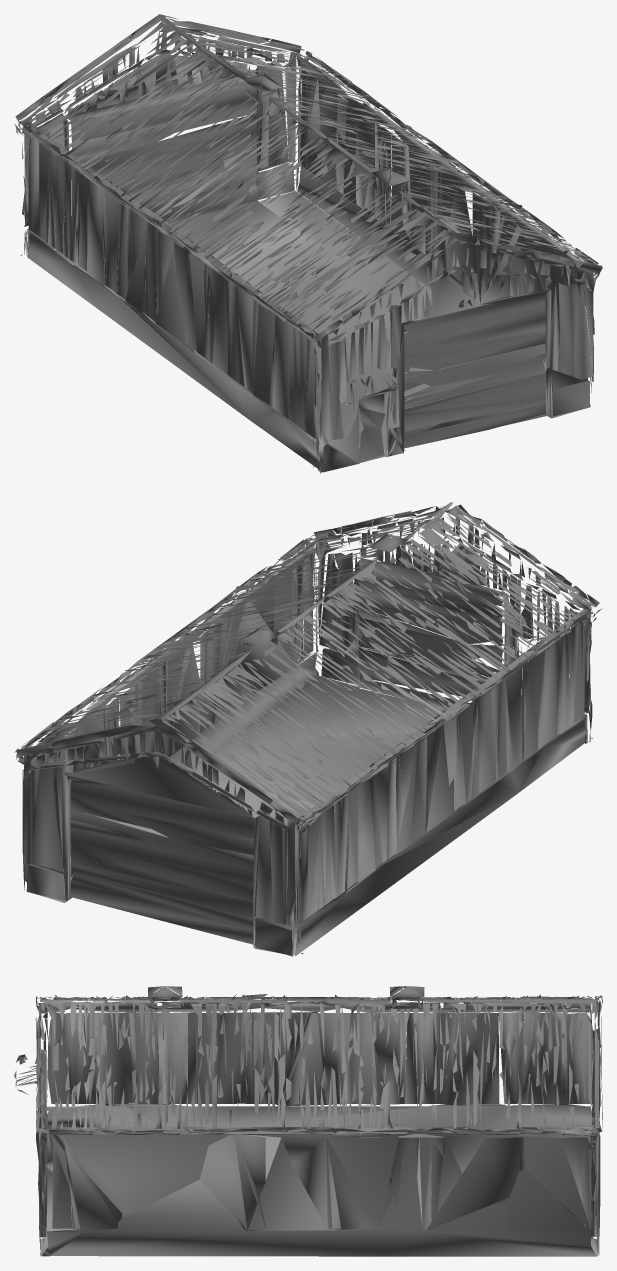
Rendered from shed.glb.
The picture shows the model from 3 angles, top to bottom: view 1: azimuth 30°, elevation 25°; view 2: azimuth 150°, elevation 25°; view 3: azimuth 270°, elevation 25°; orthographic projection. The views are drawn at different scales.
Parts seen in each view (by area): view 1: LO.001; view 2: LO.001; view 3: LO.001.
Boxes of the visible parts, x1,y1,x2,y2 form: LO.001: [14, 14, 602, 473]; LO.001: [14, 502, 602, 956]; LO.001: [14, 986, 602, 1256].
Bounding box in the file's own units: 11.02 × 7.89 × 20.01.
Materials: 1 (1 with a texture image).
